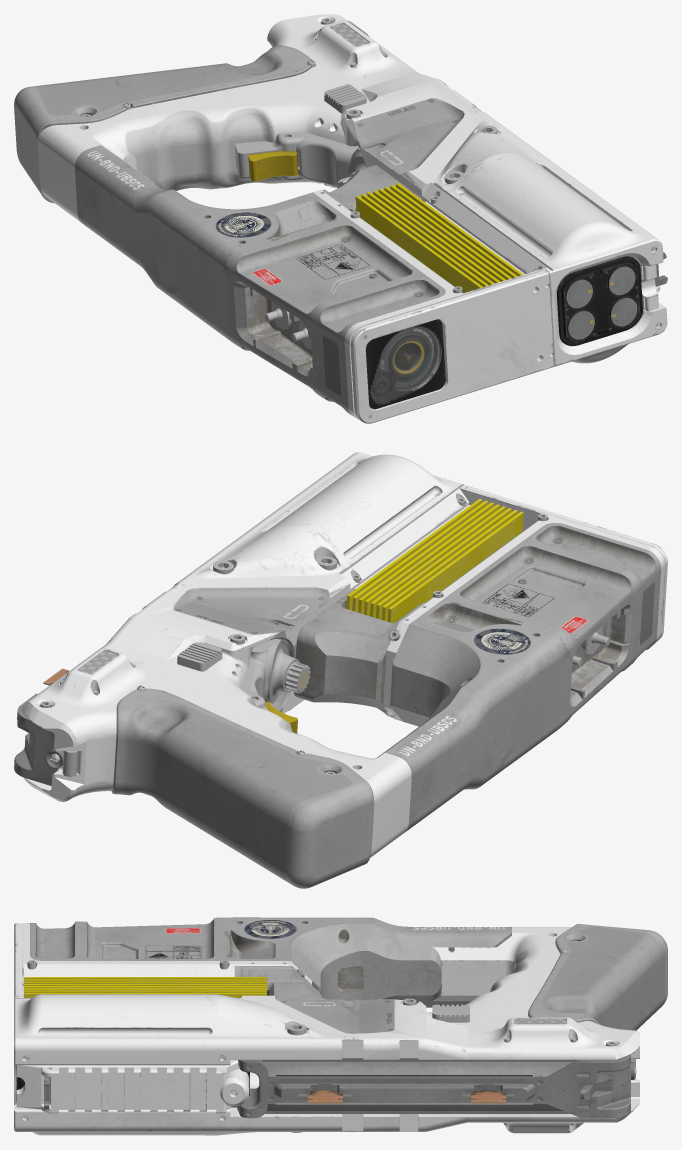
File: SpacePistol.fbx
3 views of the same model, one above another, from view 1: azimuth 30°, elevation 25°; view 2: azimuth 150°, elevation 25°; view 3: azimuth 270°, elevation 25° (orthographic). The views are drawn at different scales.
Visible parts, largest first — view 1: body, grey, metal, screws, Plane; view 2: grey, body, metal, screws; view 3: body, metal, grey, screws.
Boxes of the visible parts, left/top/right/bottom form: body: left=38, top=14, right=667, bottom=423; grey: left=14, top=45, right=445, bottom=415; metal: left=347, top=20, right=667, bottom=409; screws: left=82, top=18, right=497, bottom=349; Plane: left=371, top=320, right=442, bottom=408; grey: left=111, top=523, right=660, bottom=888; body: left=22, top=452, right=667, bottom=857; metal: left=14, top=498, right=523, bottom=785; screws: left=40, top=498, right=610, bottom=776; body: left=14, top=923, right=639, bottom=1135; metal: left=16, top=977, right=634, bottom=1118; grey: left=30, top=917, right=667, bottom=1030; screws: left=27, top=940, right=636, bottom=1132.
Bounding box in the file's own units: 21.23 × 7.76 × 35.23.
